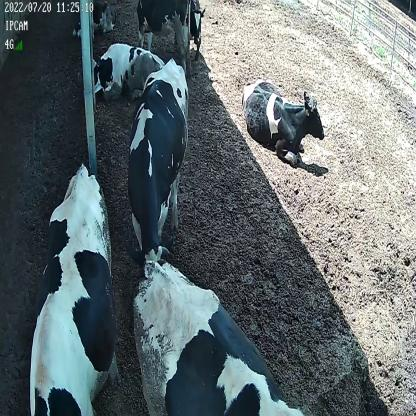cow: (28, 163, 118, 416), (125, 59, 190, 265), (242, 74, 326, 171), (90, 40, 172, 102), (133, 0, 205, 66)
